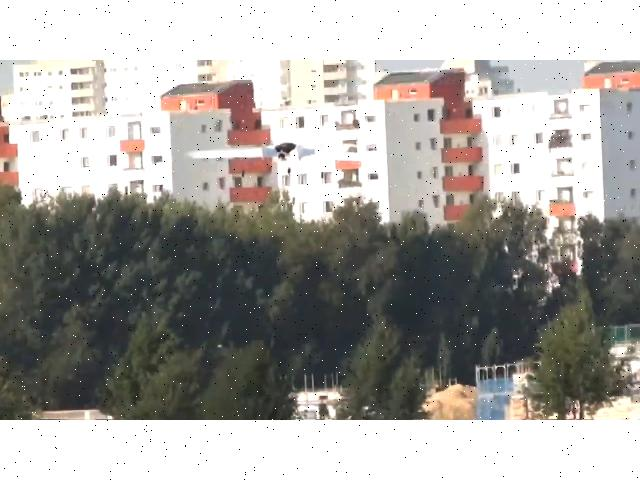Anti-Drone: (168, 130, 388, 178)
